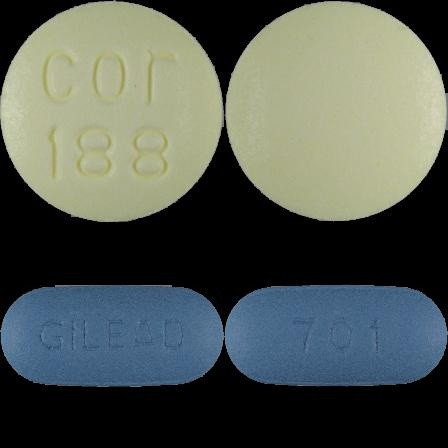52959-965: (0, 0, 224, 224)
